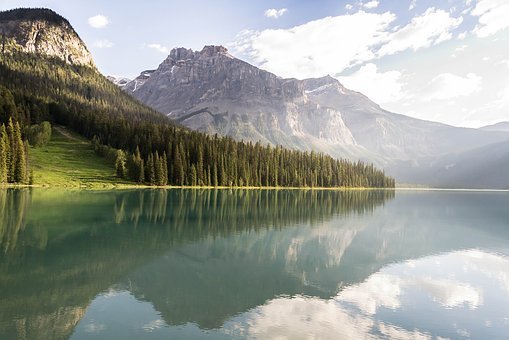lake: (9, 179, 509, 336)
mountain: (5, 26, 382, 180), (141, 43, 509, 169)
sky: (80, 2, 509, 94)
